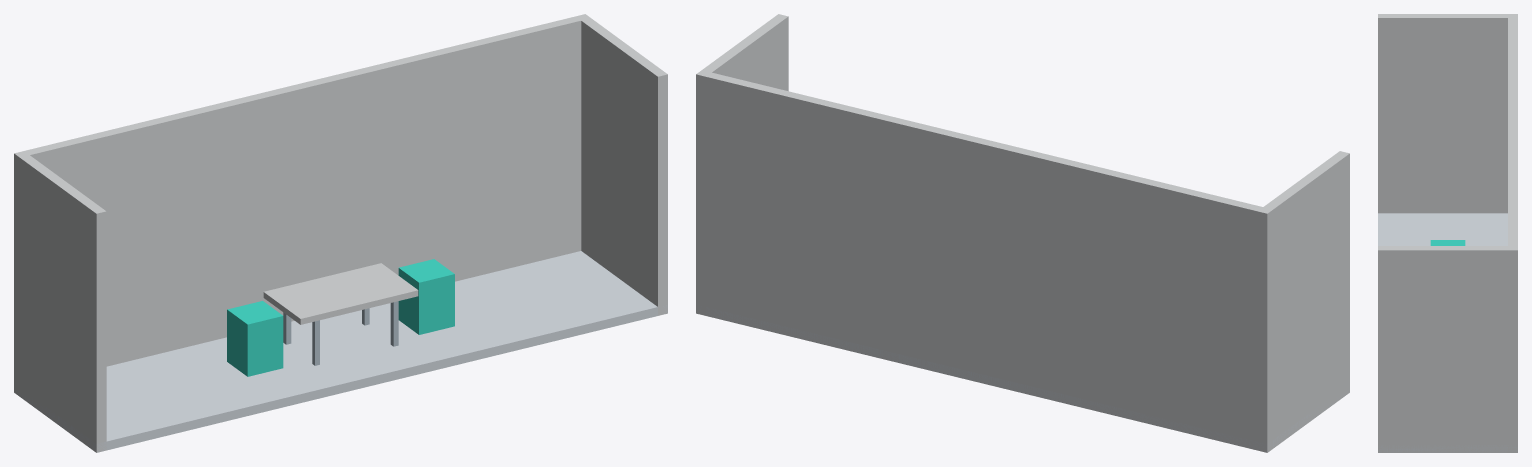
The picture shows the model from 3 angles, left to right: view 1: azimuth 30°, elevation 25°; view 2: azimuth 150°, elevation 25°; view 3: azimuth 270°, elevation 25°; orthographic projection. The views are drawn at different scales.
Parts seen in each view (by area): view 1: Exhibition Booth Concept; view 2: Exhibition Booth Concept; view 3: Exhibition Booth Concept.
Boxes of the visible parts, left/top/right/bottom form: Exhibition Booth Concept: left=14, top=14, right=667, bottom=452; Exhibition Booth Concept: left=696, top=14, right=1349, bottom=452; Exhibition Booth Concept: left=1378, top=14, right=1517, bottom=452.
Size of the model in its own units: 8 by 3.2 by 2.
